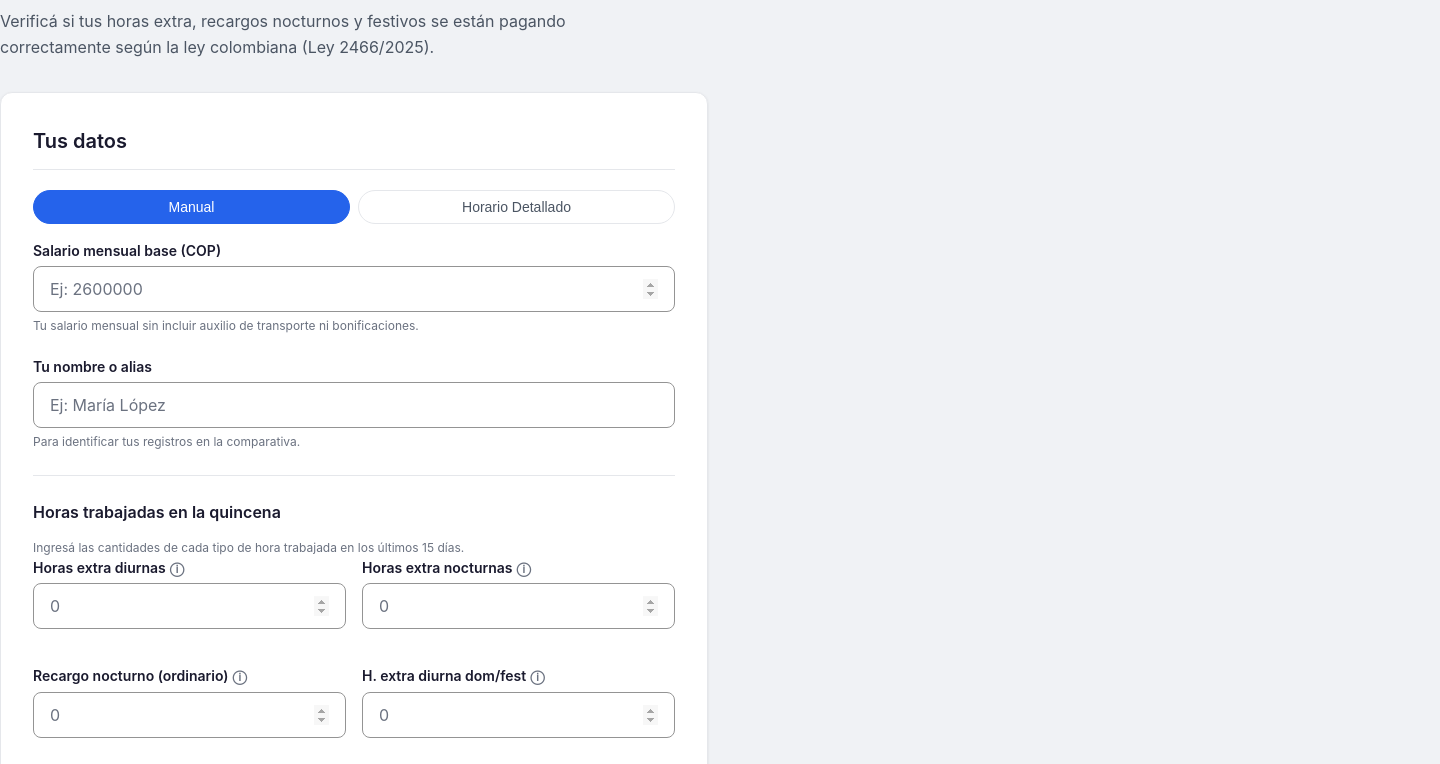
CalculatorPage — form → calculate → render › shows actual pay comparison section in results
Type "1300000" into the number field labelled "Salario mensual base (COP)" at x=354, y=290, box [33, 267, 675, 313]
(page scrolled)
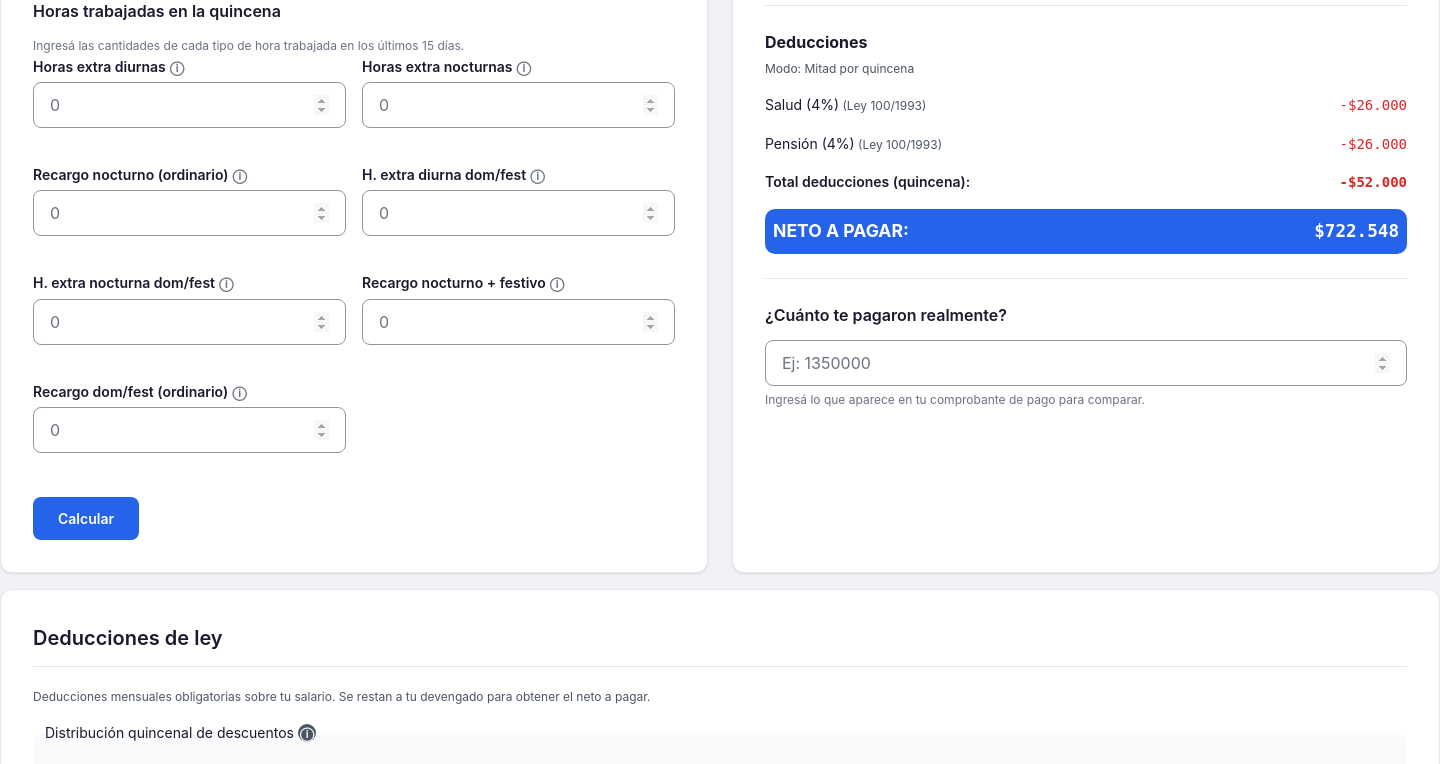
Expected: the number field with placeholder "Ej: 1350000" is shown
Type "1500000" into the number field with placeholder "Ej: 1350000" at x=1086, y=364, box [765, 341, 1407, 387]
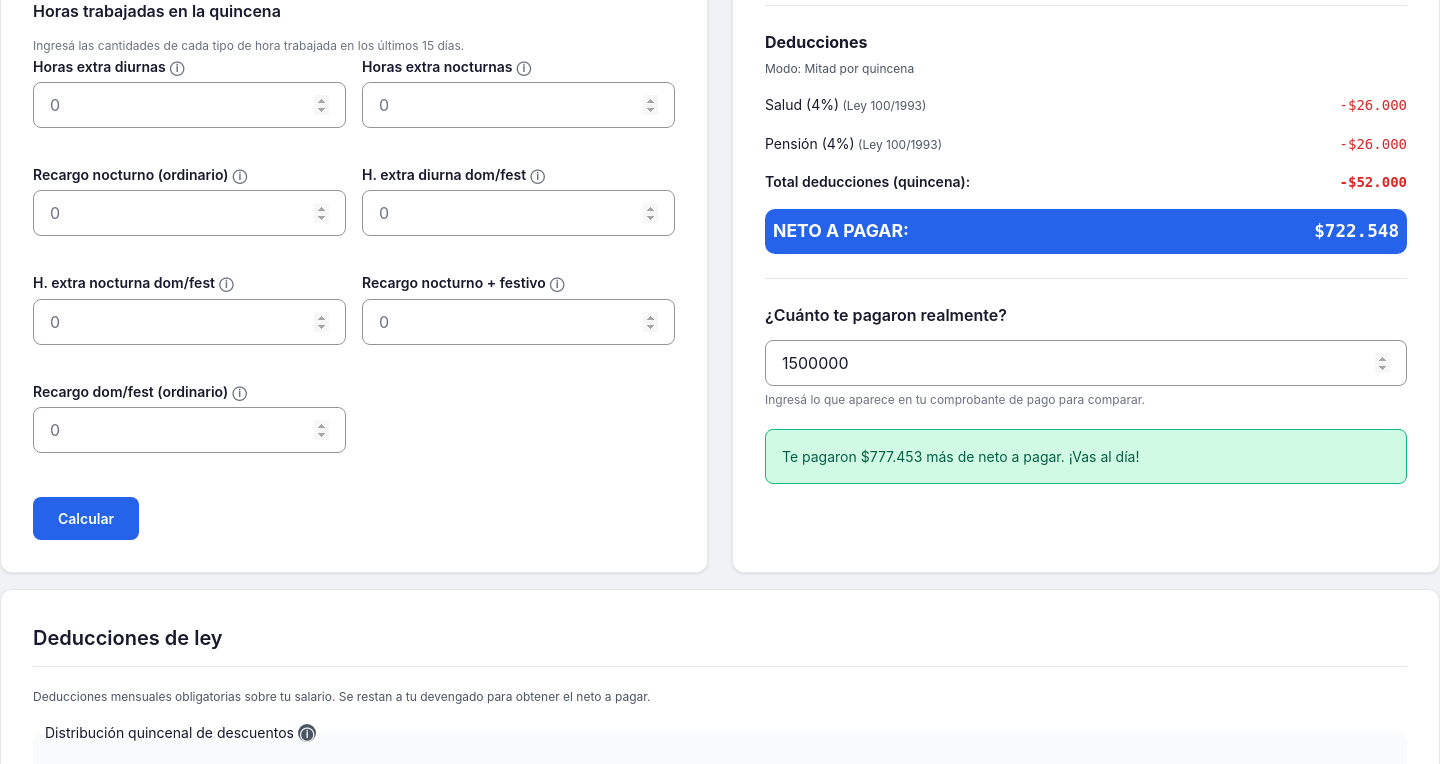
Expected: the text "Te pagaron $777.453 más de neto a pagar. ¡Vas al día!" is shown, [782, 449, 1140, 466]
